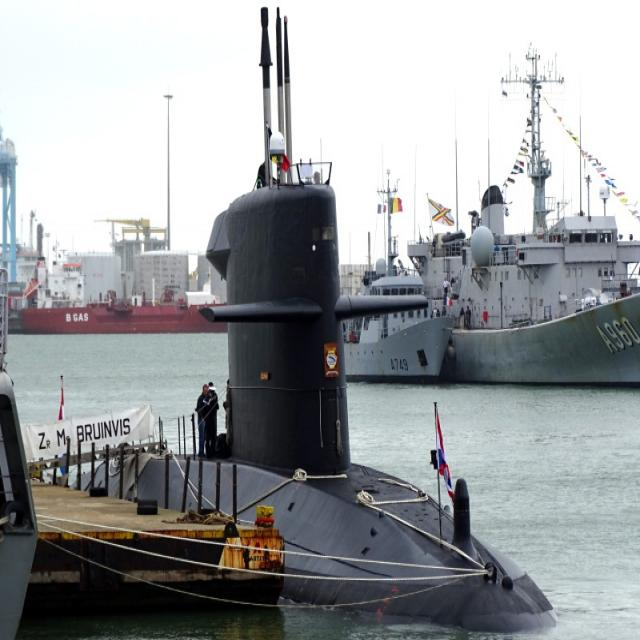submarine: (65, 183, 563, 634)
